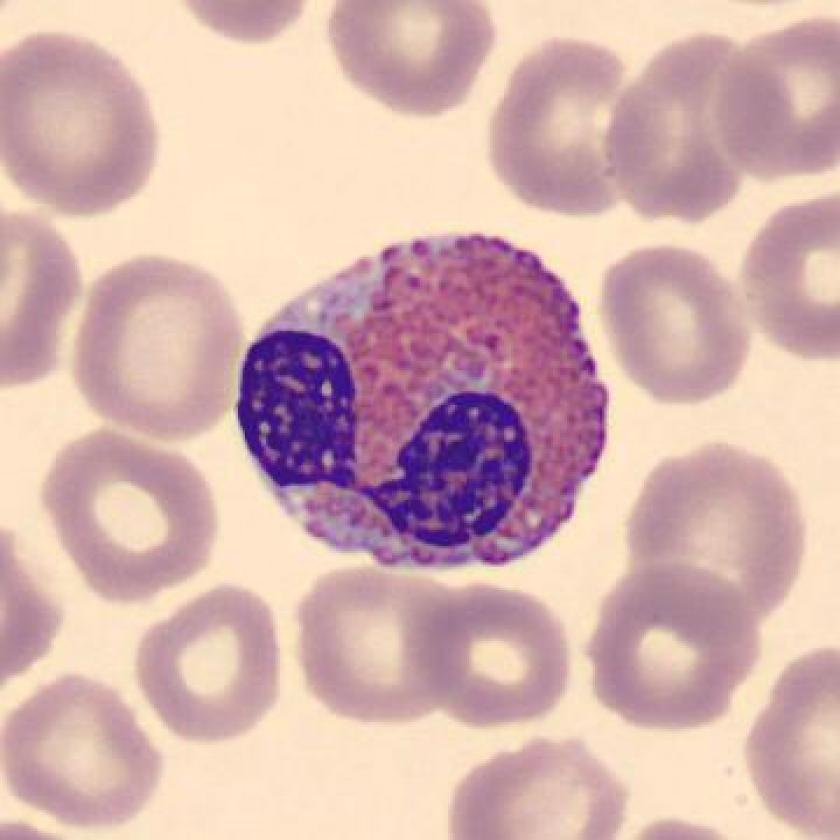eosinophil: (223, 218, 624, 582)
